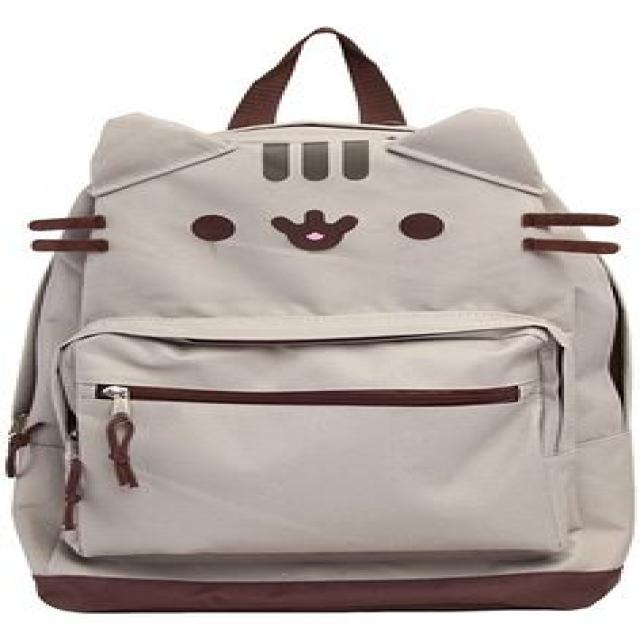backpack: (4, 26, 636, 614)
